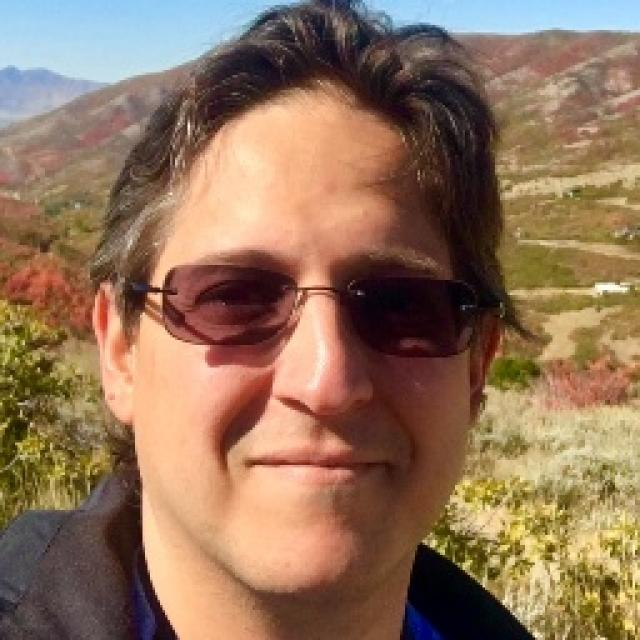earlobe: (105, 379, 132, 424), (469, 381, 484, 419)
eye: (198, 282, 270, 310), (369, 290, 436, 320)
nose: (278, 394, 369, 447)
wholeear: (92, 280, 133, 424), (469, 308, 502, 420)
